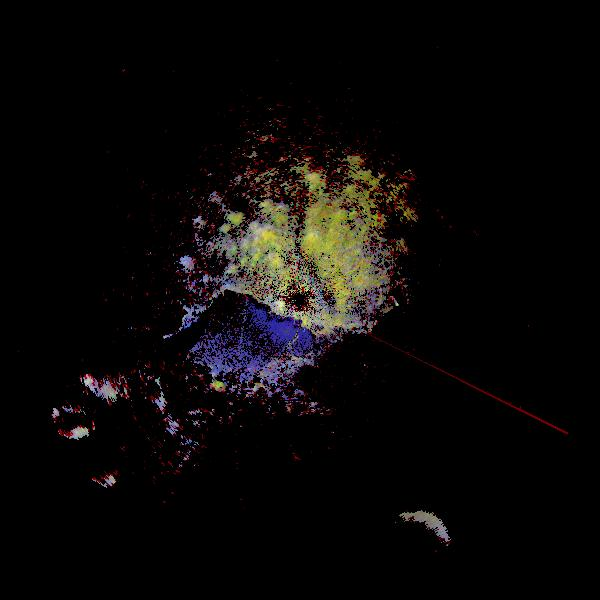roost: (361, 484, 478, 600)
